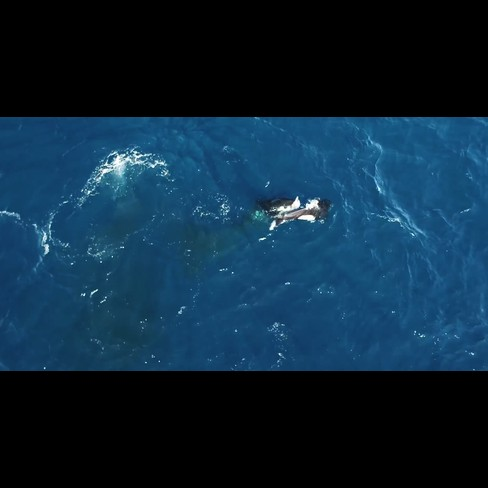orca: (243, 191, 338, 234)
